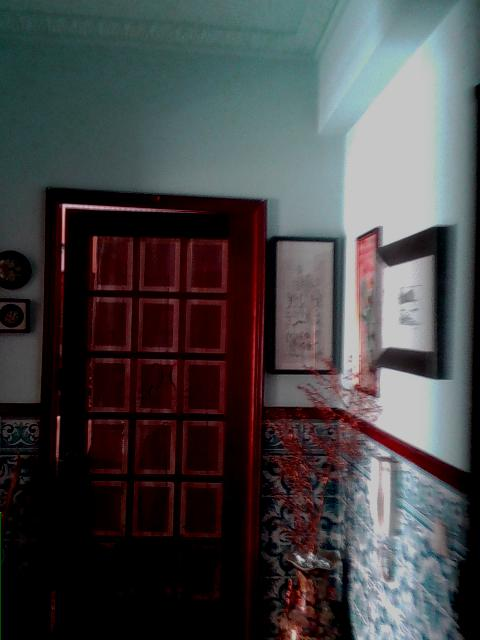closed_door: (44, 187, 266, 639)
